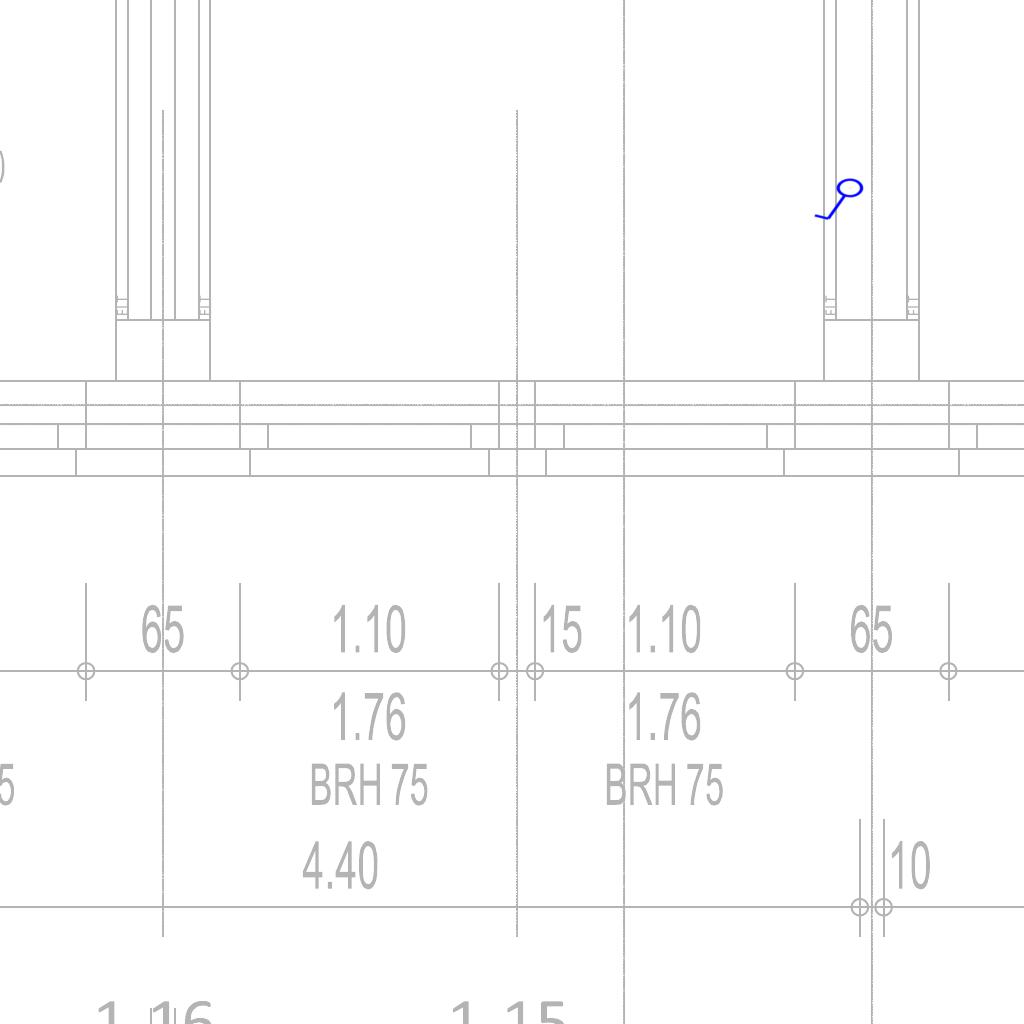Ausschalter: (813, 177, 869, 225)
